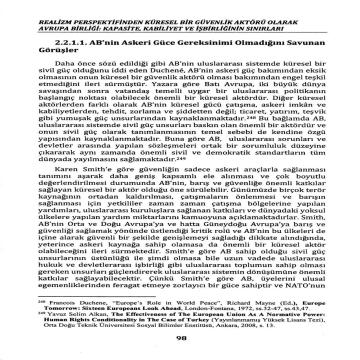footer: (41, 300, 334, 330)
header: (36, 18, 311, 32)
